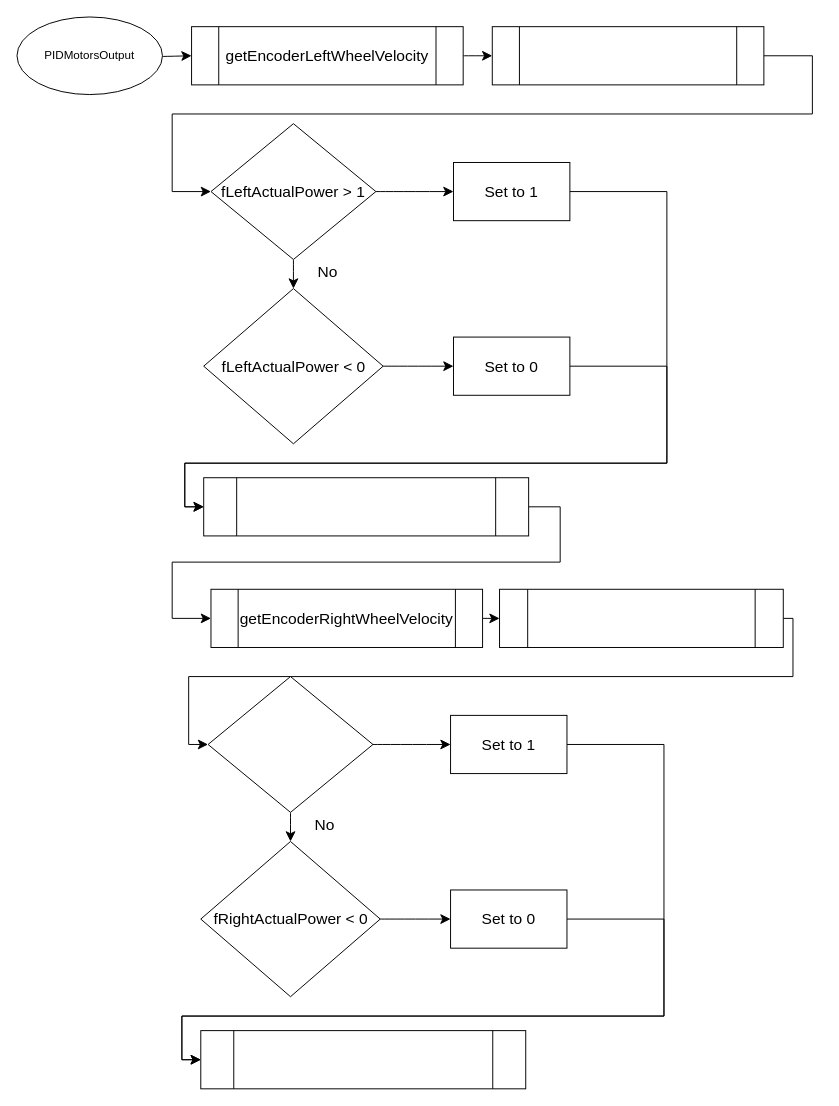
This 839x1106 diagram has some shape labels left out. The shapes that lost their labels are listed below. From the top down, each one's box as (x1, y1, x2, y2) in pixels, then its label:
(491, 26, 764, 85): fLeftActualPower += pidUpdateData(leftEncoderVel, fLeftSetPoint)
(203, 477, 529, 536): MotorLeftPower(fLeftActualPower)
(499, 588, 783, 647): fRightActualPower += pidUpdateData(rightEncoderVel, fRightSetPoint)
(207, 676, 373, 812): fRightActualPower > 1
(200, 1030, 526, 1089): MotorRightPower(fLeftActualPower)
